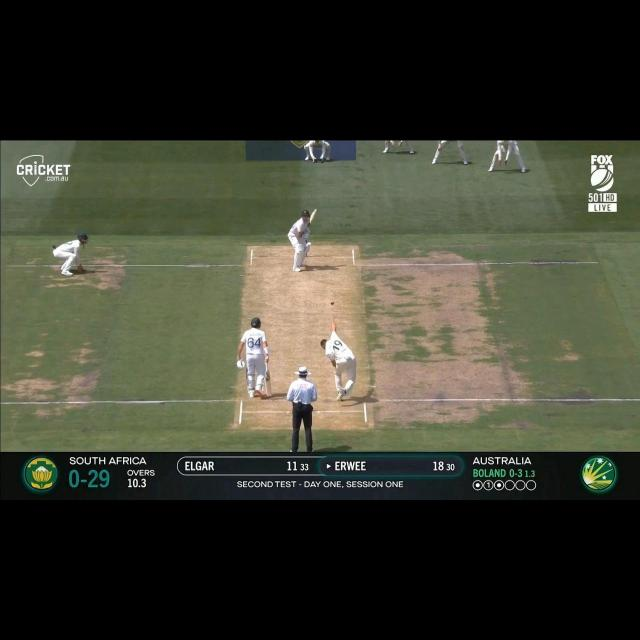bat: (265, 371, 273, 398), (309, 208, 318, 223)
toe: (312, 208, 318, 215), (265, 392, 273, 397)
